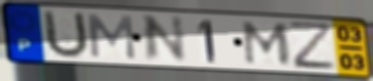1: (196, 18, 218, 64)
M: (86, 13, 139, 62), (242, 20, 293, 66)
N: (141, 14, 190, 64)
U: (42, 8, 91, 60)
Z: (285, 21, 339, 72)
